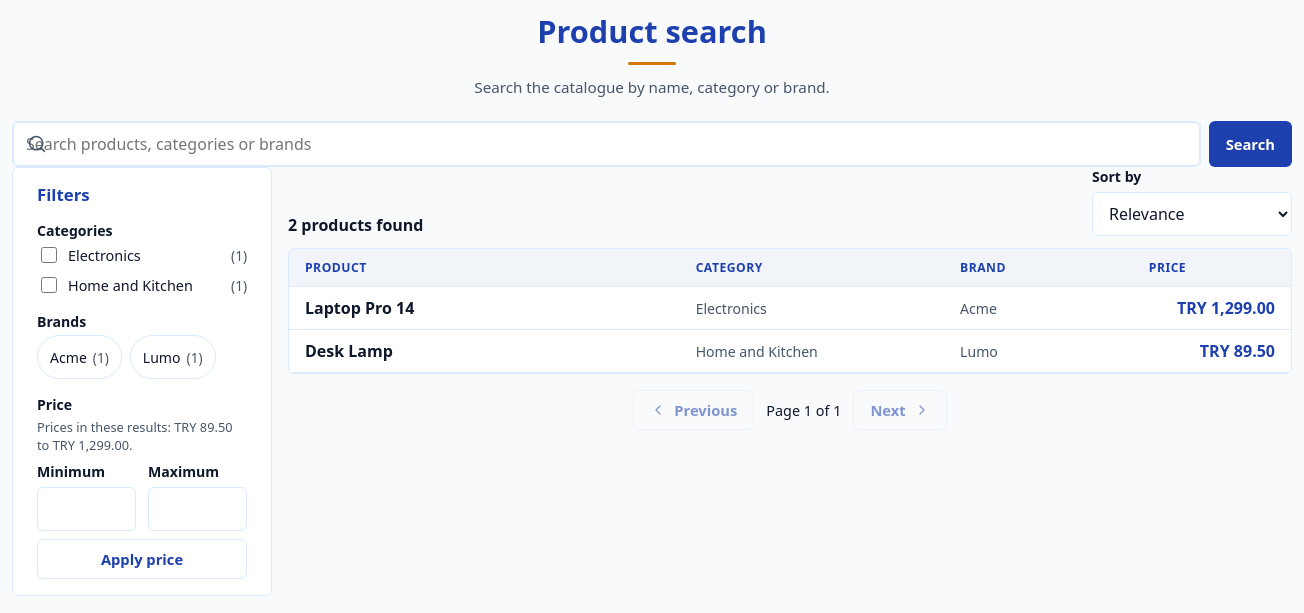
the typeahead waits for the typing to pause, then moves with the arrow keys and runs the chosen suggestion
The width and height of the screenshot is (1304, 613).
Expected: the list named "Products" is shown, x1=288 y1=248 x2=1292 y2=374
Type "Lap" into the dropdown labelled "Search products" at {"x": 606, "y": 144}, box x1=13 y1=122 x2=1200 y2=166
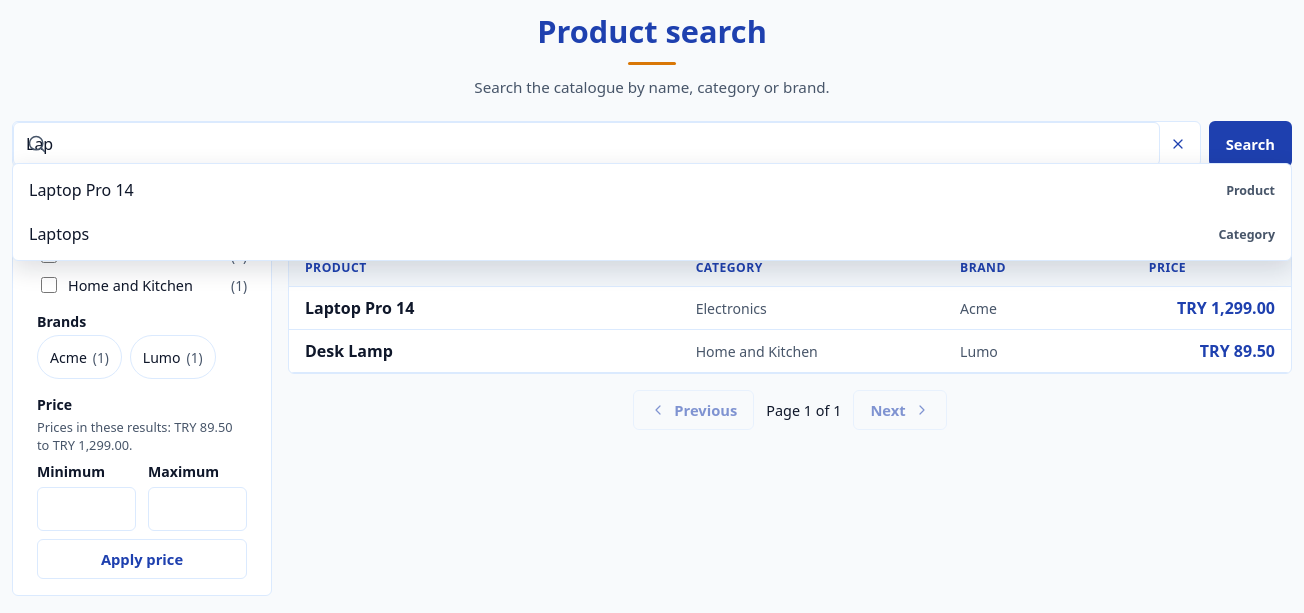
Result: the list named "Suggestions" is shown at x1=12 y1=163 x2=1292 y2=261
Press ArrowDown in the dropdown named "Search products", box x1=13 y1=122 x2=1160 y2=166
Press ArrowDown in the dropdown named "Search products", box x1=13 y1=122 x2=1160 y2=166
Press ArrowUp in the dropdown named "Search products", box x1=13 y1=122 x2=1160 y2=166
Press Enter in the dropdown named "Search products", box x1=13 y1=122 x2=1160 y2=166
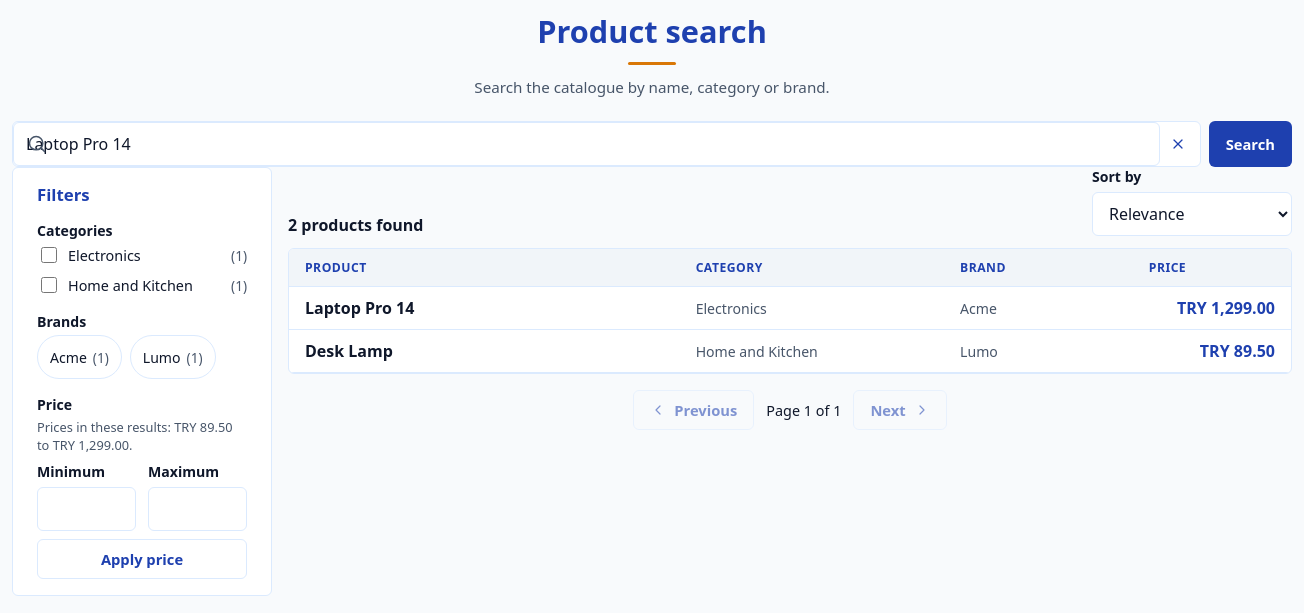
Result: the dropdown named "Search products" holds "Laptop Pro 14" at x1=13 y1=122 x2=1160 y2=166
Result: the list "Laptop Pro 14 Product Laptops Category" is gone
